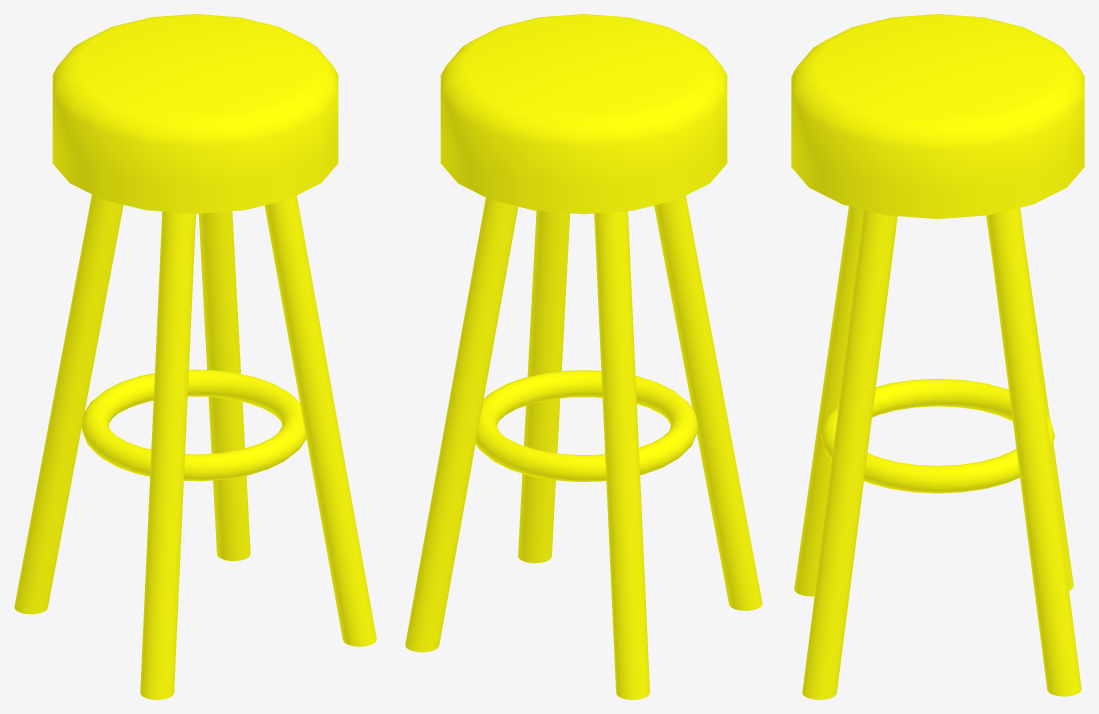
The model's file is SM_Chair01.glb.
The picture shows the model from 3 angles, left to right: view 1: azimuth 30°, elevation 25°; view 2: azimuth 150°, elevation 25°; view 3: azimuth 270°, elevation 25°; orthographic projection. The views are drawn at different scales.
Visible parts, largest first — view 1: SM_Chair01; view 2: SM_Chair01; view 3: SM_Chair01.
Part boxes in pixels (x1,y1,x2,y2): SM_Chair01: [14, 14, 376, 699]; SM_Chair01: [405, 14, 762, 699]; SM_Chair01: [791, 14, 1084, 699].
Size of what is drawn, in the model's own units: 0.4254 by 0.902 by 0.419.
Materials: 1 (1 with a texture image).
